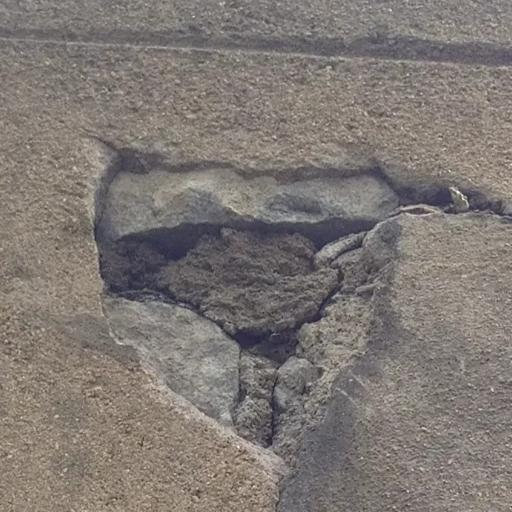spalling: (83, 86, 509, 440)
